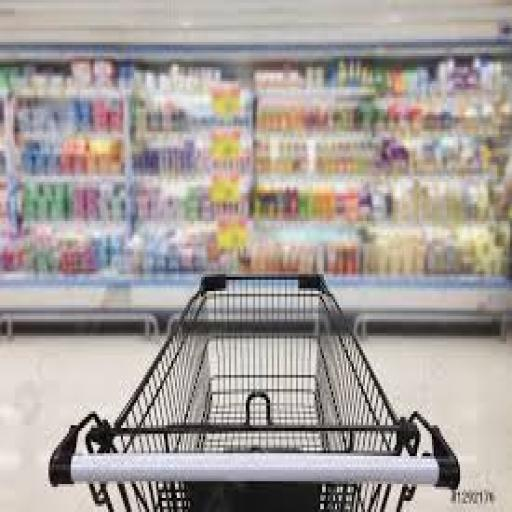shopping_cart: (48, 268, 460, 510)
